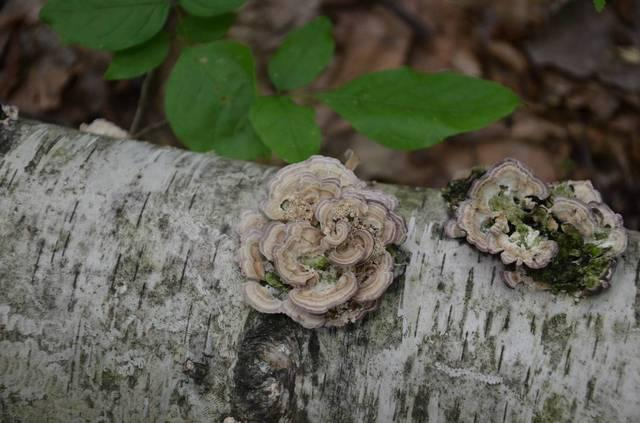Non-edible Mushroom: (237, 153, 408, 329), (443, 156, 627, 297)
